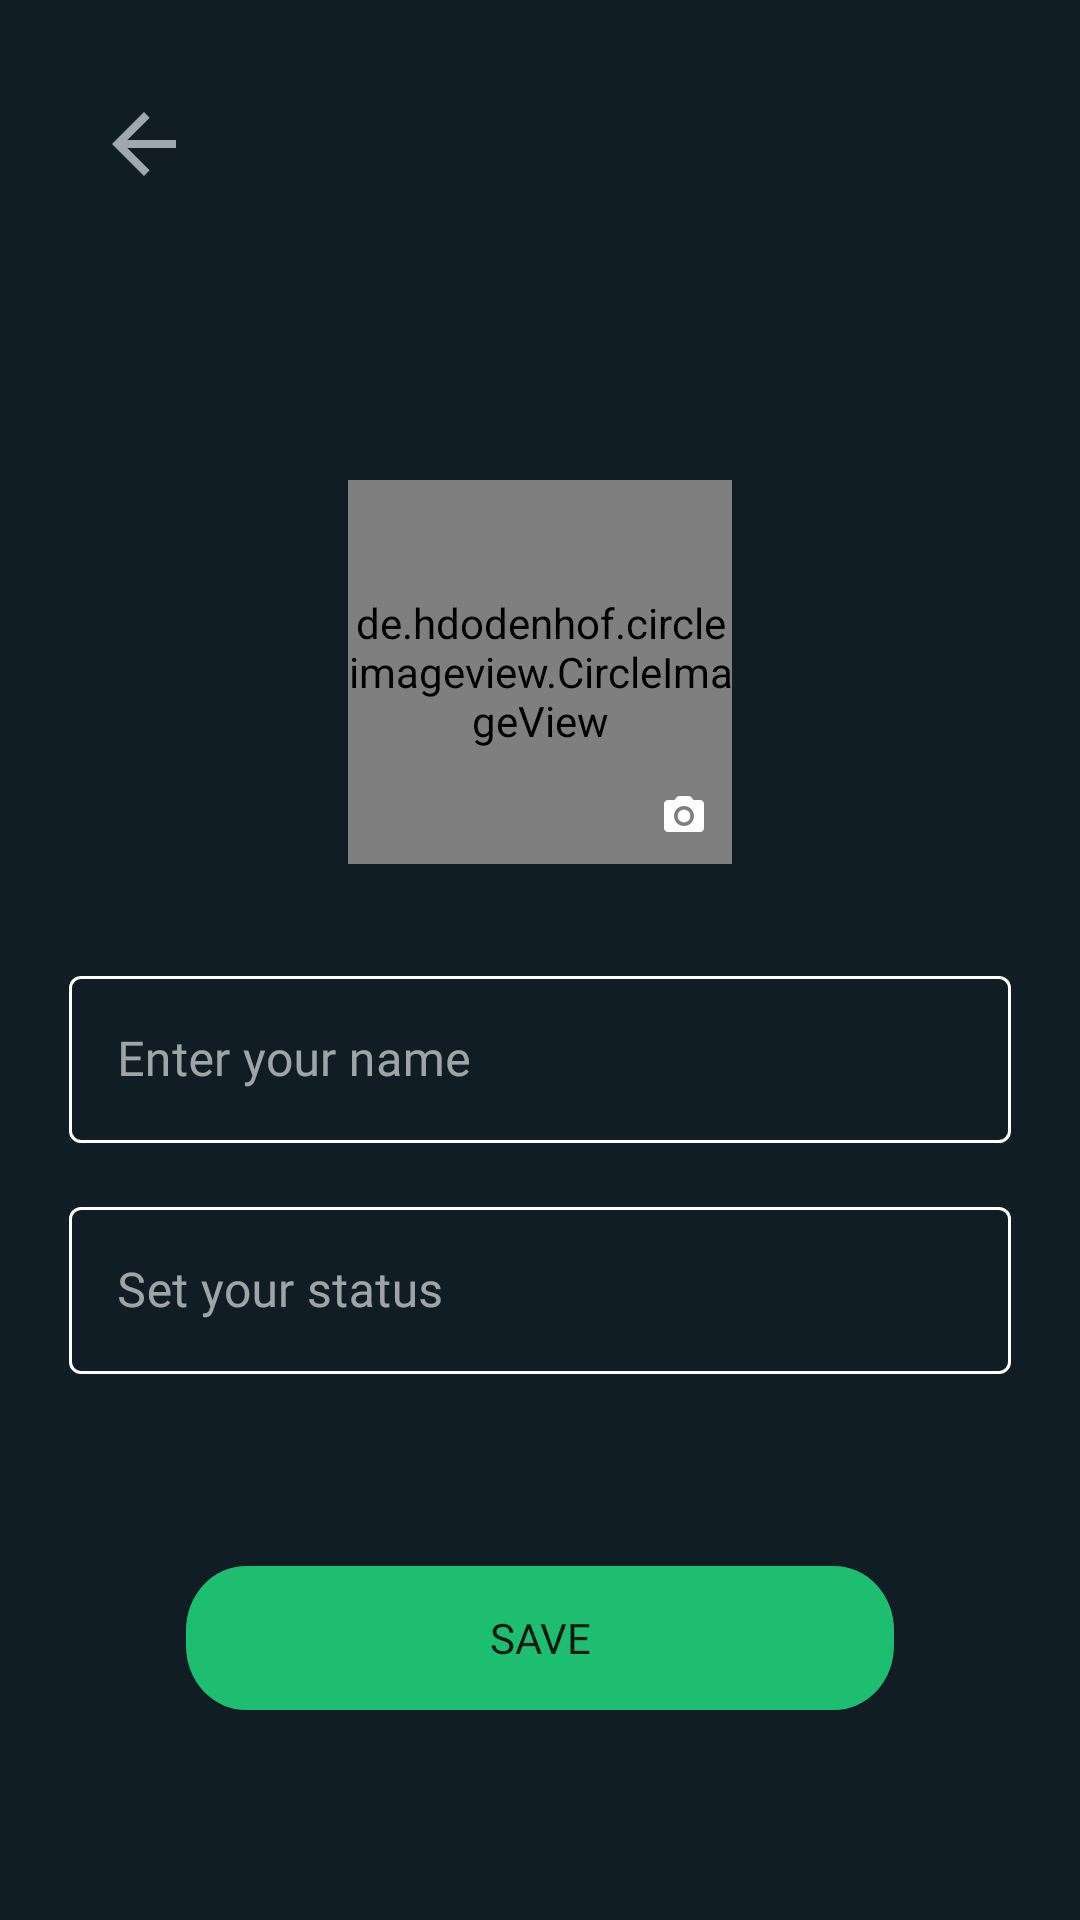

Screen size 1080w x 1920h. Icon name, then its box in pixels as (x1, y1, x2, y2):
back: (112, 112, 176, 176)
profile screen camera: (664, 796, 704, 832)
